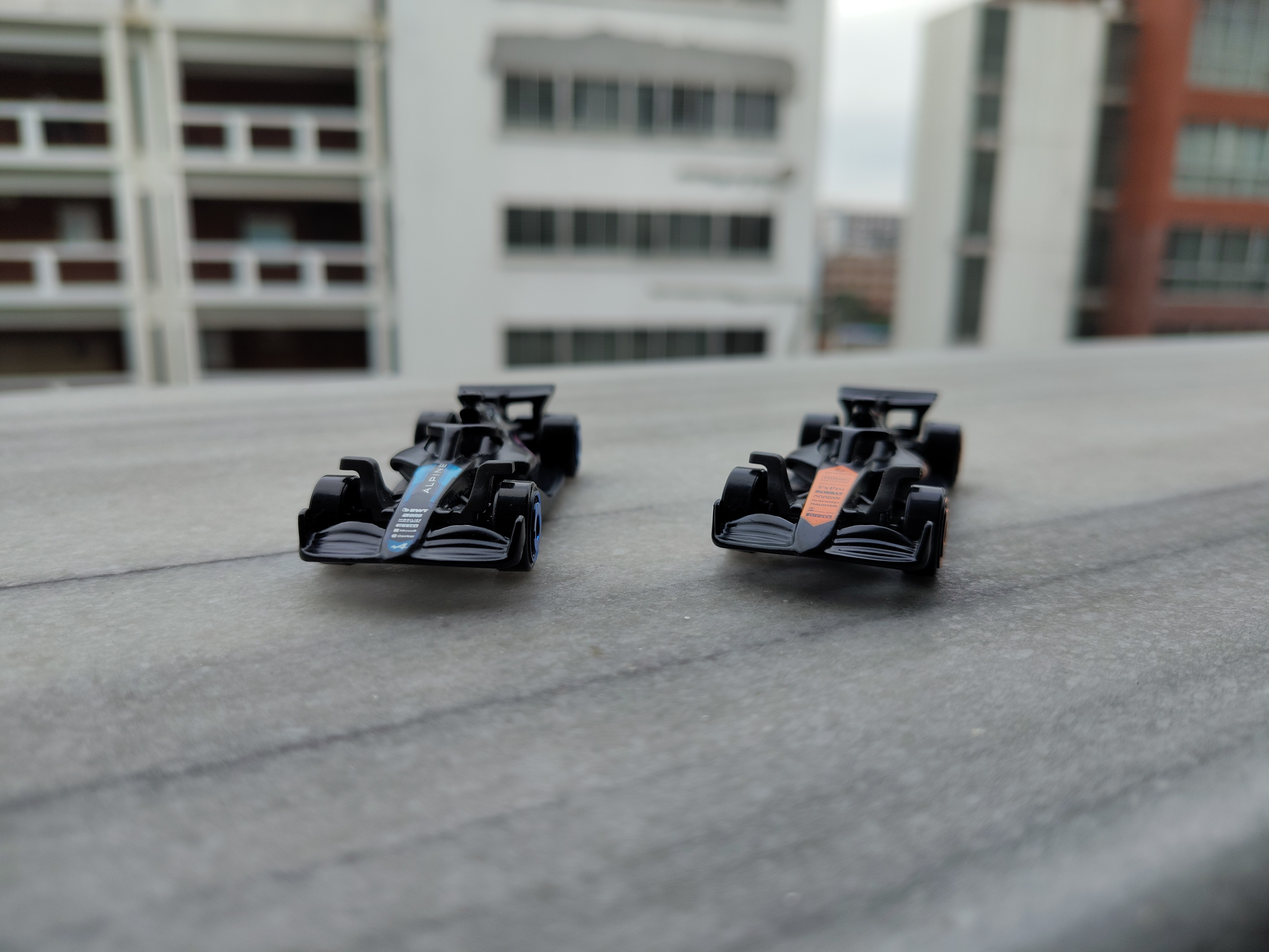Alpine A524: (256, 279, 595, 624)
McLaren MCL40: (640, 330, 1013, 634)
